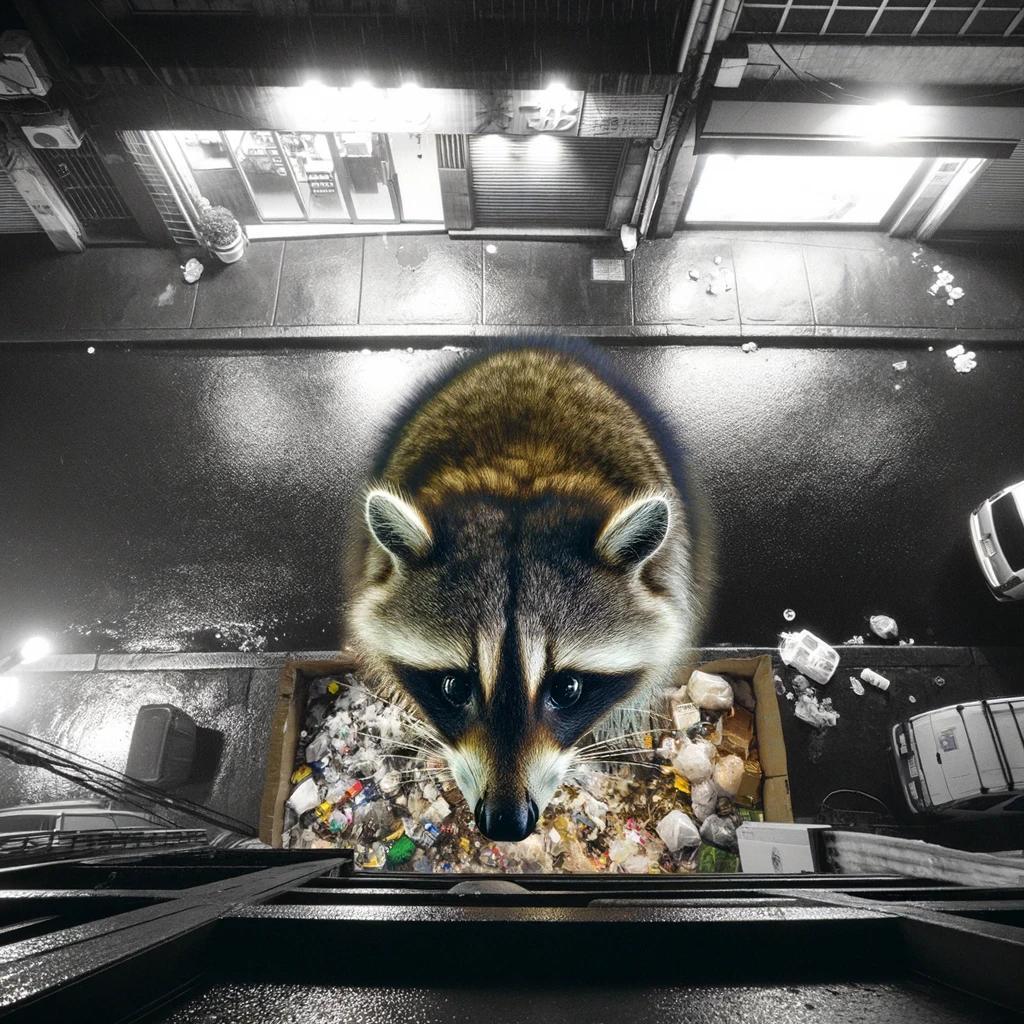raccoon: (327, 318, 733, 857)
